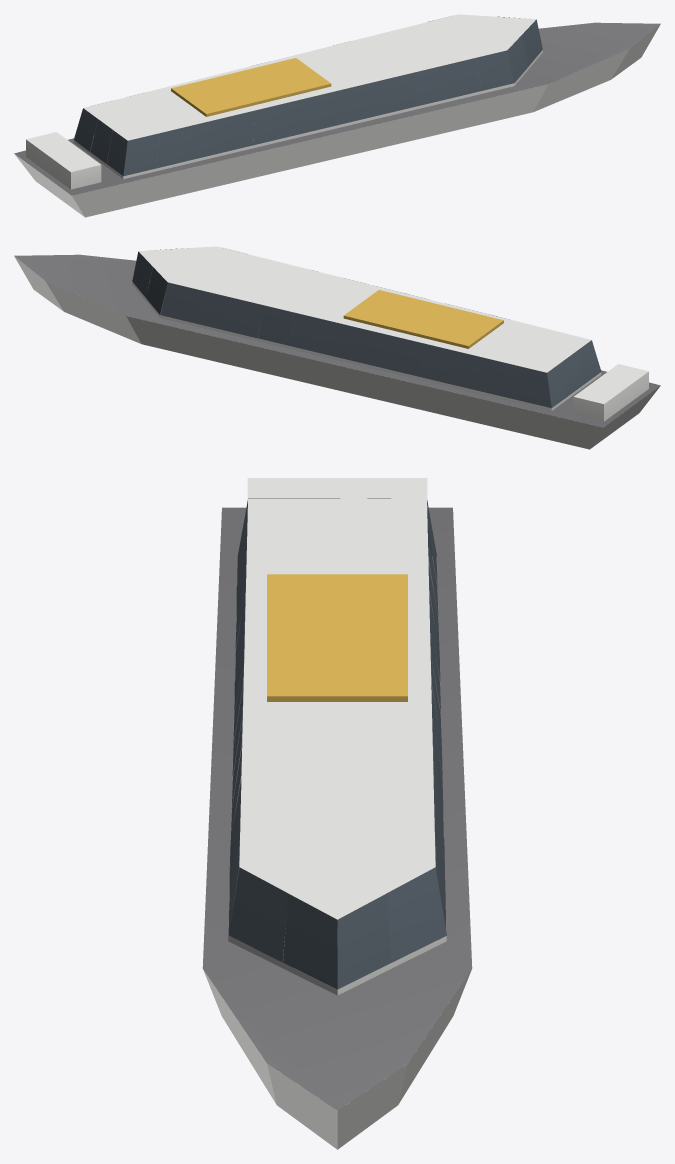
The model's file is bateau.glb.
3 views of the same model, one above another, from view 1: azimuth 30°, elevation 25°; view 2: azimuth 150°, elevation 25°; view 3: azimuth 270°, elevation 25° (orthographic). The views are drawn at different scales.
Visible parts, largest first — view 1: bateau; view 2: bateau; view 3: bateau.
Boxes of the visible parts, x1,y1,x2,y2 form: bateau: (14,14,660,217); bateau: (14,246,660,449); bateau: (202,478,472,1149).
Bounding box in the file's own units: 44.5 × 4.6 × 8.4.
